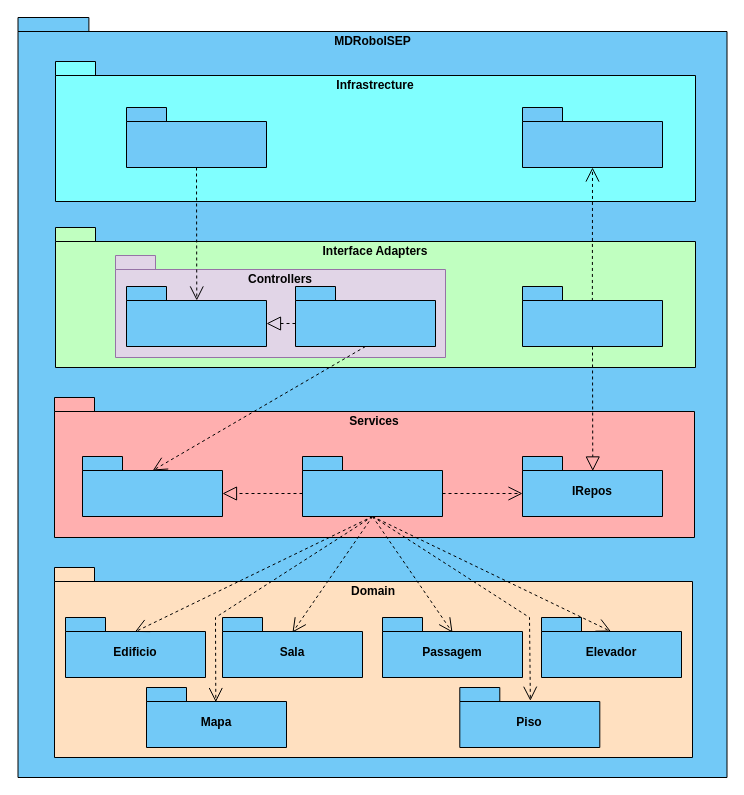
The diagram is 744 pixels wide and 795 high, and some of its shapes have lost their labels. Each missing label, with the centre of its shape:
IControllers: (196,316)
ImplControllers: (365,316)
ImplServices: (372,486)
IServices: (152,486)
Persistence: (592,137)
Repos: (592,316)
Routes: (196,137)
